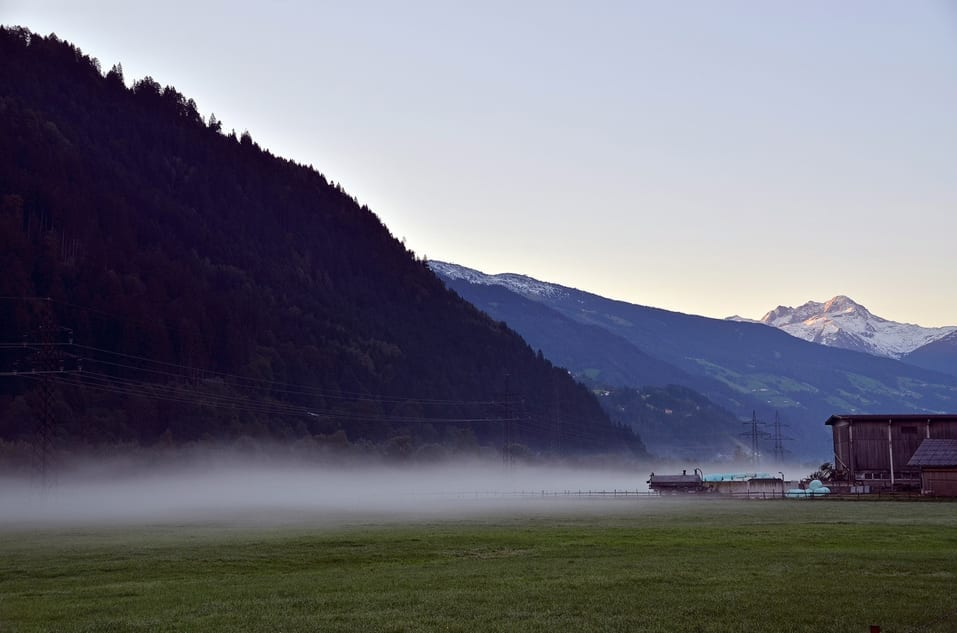Stratus: (12, 426, 727, 518)
